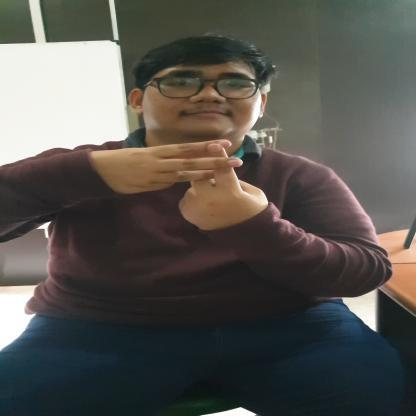B: (100, 138, 266, 226)
